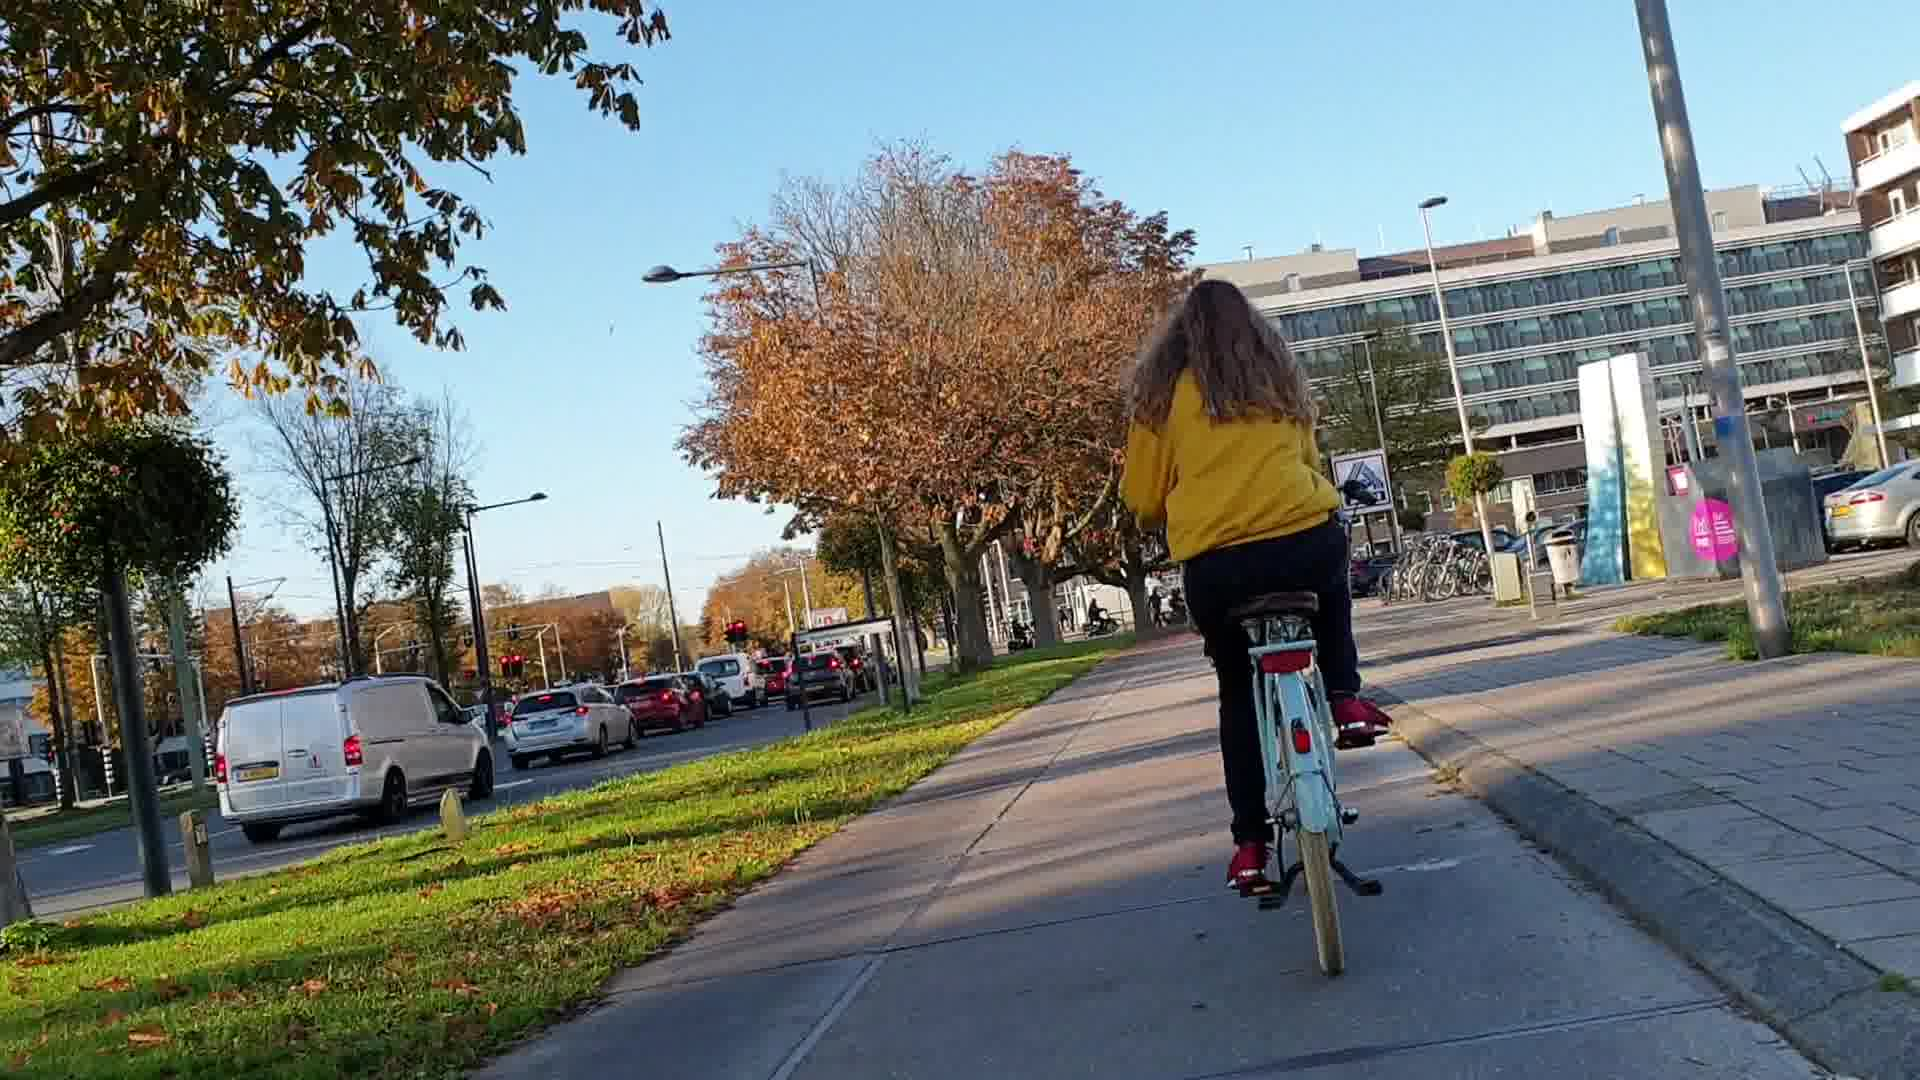car: (202, 684, 495, 818), (504, 682, 642, 764)
